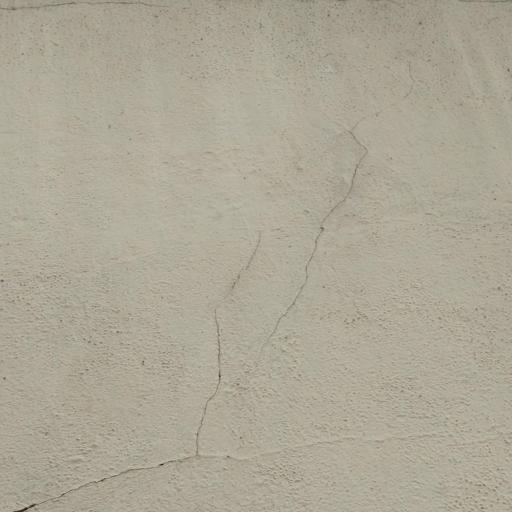minor_crack: (0, 421, 501, 512), (253, 101, 398, 371), (160, 210, 264, 467)
